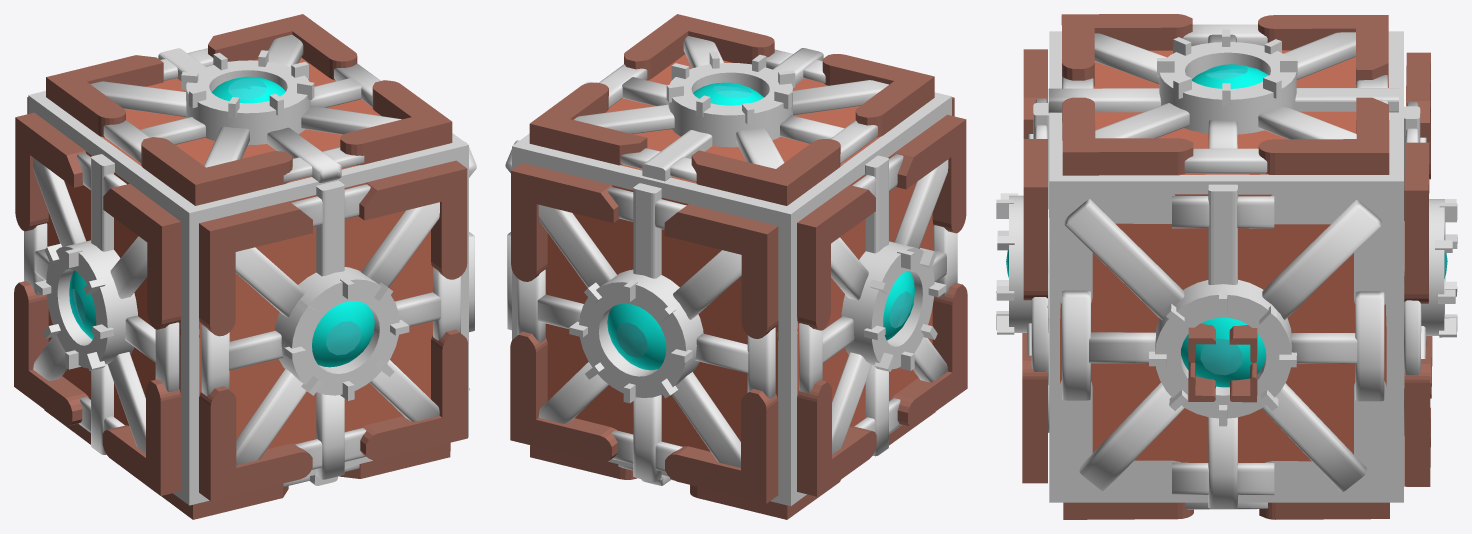
3 renders of one model, left to right at view 1: azimuth 30°, elevation 25°; view 2: azimuth 150°, elevation 25°; view 3: azimuth 270°, elevation 25°, orthographic. The views are drawn at different scales.
Visible parts, largest first — view 1: INTERIOR CAJA, MADERA EXTERIOR, MADERA EXTERIOR.001, MADERA EXTERIOR.003, INTERIOR CAJA.001, INTERIOR CAJA.003, Cubo, Cilindro, Cilindro.002, Cilindro.004, MADERA EXTERIOR.004, ESFERA (+8 smaller); view 2: INTERIOR CAJA 1, MADERA EXTERIOR. 2, MADERA EXTERIOR.001, MADERA EXTERIOR.003, INTERIOR CAJA.001, INTERIOR CAJA.003, Cubo, Cilindro.001, Cilindro.002, Cilindro.004, MADERA EXTERIOR.004, ESFERA 1 (+8 smaller); view 3: INTERIOR CAJA.002, Cubo, MADERA EXTERIOR.003, INTERIOR CAJA.003, Cilindro.003, MADERA EXTERIOR. 2, MADERA EXTERIOR, Cilindro.004, MADERA EXTERIOR.004, MADERA EXTERIOR.002, INTERIOR CAJA, INTERIOR CAJA 1 (+9 smaller).
Part boxes in pixels (x1,y1,x2,y2): INTERIOR CAJA: (199, 180, 460, 479); MADERA EXTERIOR: (199, 160, 467, 500); MADERA EXTERIOR.001: (14, 112, 180, 495); MADERA EXTERIOR.003: (46, 14, 452, 205); INTERIOR CAJA.001: (24, 151, 180, 454); INTERIOR CAJA.003: (90, 34, 401, 183); Cubo: (28, 63, 468, 505); Cilindro: (275, 267, 399, 395); Cilindro.002: (46, 240, 137, 368); Cilindro.004: (186, 60, 310, 144); MADERA EXTERIOR.004: (44, 409, 450, 519); ESFERA: (312, 301, 374, 367); INTERIOR CAJA 1: (517, 183, 777, 481); MADERA EXTERIOR. 2: (510, 163, 778, 503); MADERA EXTERIOR.001: (797, 114, 967, 496); MADERA EXTERIOR.003: (529, 14, 934, 205); INTERIOR CAJA.001: (797, 153, 957, 456); INTERIOR CAJA.003: (574, 36, 888, 183); Cubo: (512, 78, 951, 506); Cilindro.001: (579, 269, 703, 397); Cilindro.002: (841, 241, 934, 369); Cilindro.004: (668, 63, 792, 147); MADERA EXTERIOR.004: (530, 412, 935, 519); ESFERA 1: (607, 303, 666, 370); INTERIOR CAJA.002: (1060, 184, 1386, 508); Cubo: (1049, 31, 1403, 502); MADERA EXTERIOR.003: (1061, 14, 1389, 175); INTERIOR CAJA.003: (1048, 24, 1398, 174); Cilindro.003: (1155, 279, 1292, 418); MADERA EXTERIOR. 2: (1404, 52, 1432, 486); MADERA EXTERIOR: (1022, 49, 1047, 483); Cilindro.004: (1159, 42, 1296, 134); MADERA EXTERIOR.004: (1063, 502, 1389, 519); MADERA EXTERIOR.002: (1188, 323, 1257, 402); INTERIOR CAJA: (1027, 98, 1049, 432); INTERIOR CAJA 1: (1404, 102, 1426, 435).
Bounding box in the file's own units: 695 × 669 × 672.
